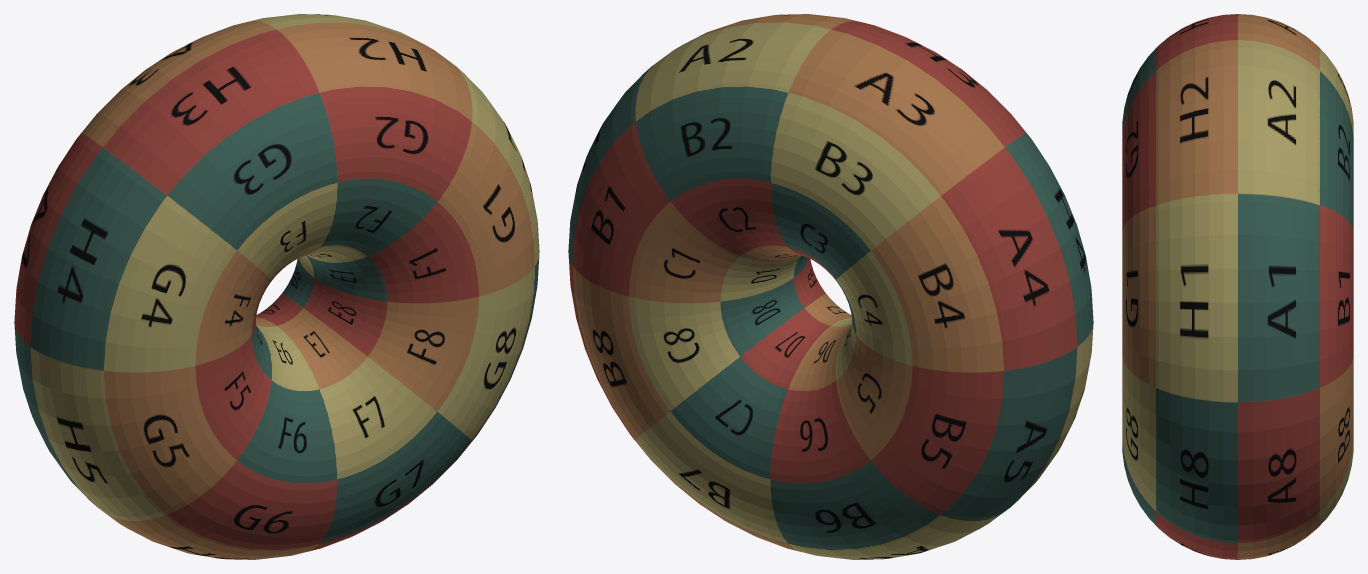
The model's file is texture_torus_R1_r22.glb.
The picture shows the model from 3 angles, left to right: view 1: azimuth 30°, elevation 25°; view 2: azimuth 150°, elevation 25°; view 3: azimuth 270°, elevation 25°; orthographic projection. The views are drawn at different scales.
Parts seen in each view (by area): view 1: world; view 2: world; view 3: world.
Part boxes in pixels (box(x1,y1,x2,y2)): world: box(14, 14, 539, 559); world: box(568, 14, 1093, 559); world: box(1122, 14, 1353, 559).
Size of the model in its own units: 18.53 by 18.5 by 7.85.
Materials: 1 (1 with a texture image).
